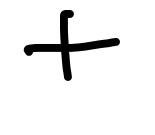plus: (24, 9, 120, 82)
